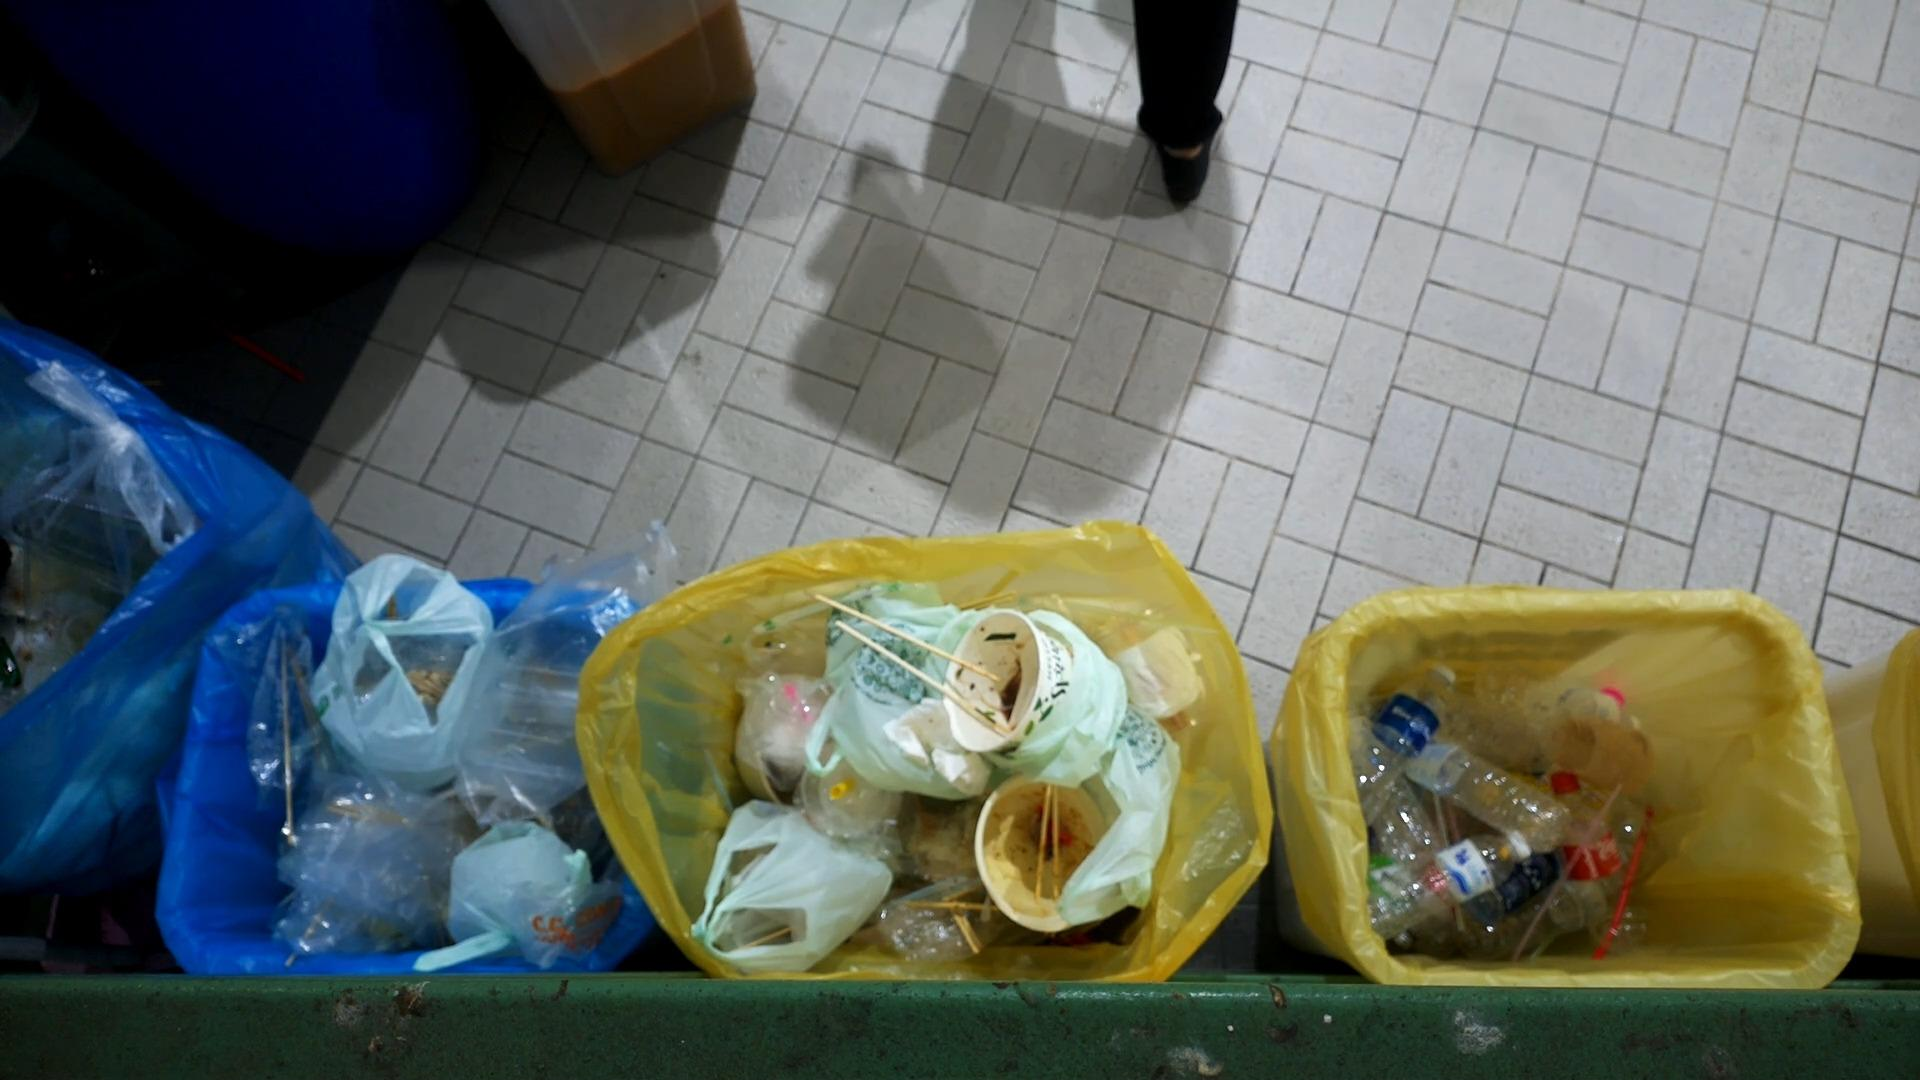filled plastic bag: (811, 572, 1075, 818), (268, 782, 555, 957), (669, 793, 898, 984), (310, 550, 495, 781), (1033, 678, 1185, 932), (431, 814, 597, 980), (1025, 601, 1129, 793)
food container: (953, 765, 1112, 930), (943, 605, 1080, 757)
plastic bag: (452, 508, 683, 820), (204, 601, 309, 816)
plastic bottle: (1394, 723, 1572, 849), (1364, 837, 1536, 961), (1357, 651, 1456, 829), (1549, 765, 1629, 932)
plastic cup: (1084, 580, 1213, 732), (735, 665, 825, 777)
sticks: (811, 587, 1017, 737), (235, 612, 323, 845), (1029, 781, 1068, 902)
straw: (1582, 783, 1687, 955), (824, 777, 861, 803)
tissue paper: (870, 698, 990, 815)
